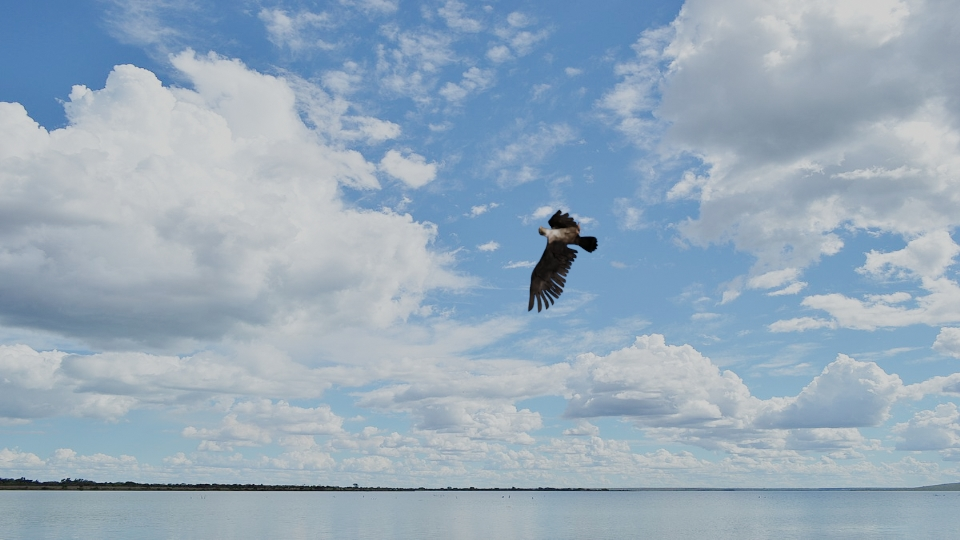bird: (524, 209, 598, 312)
